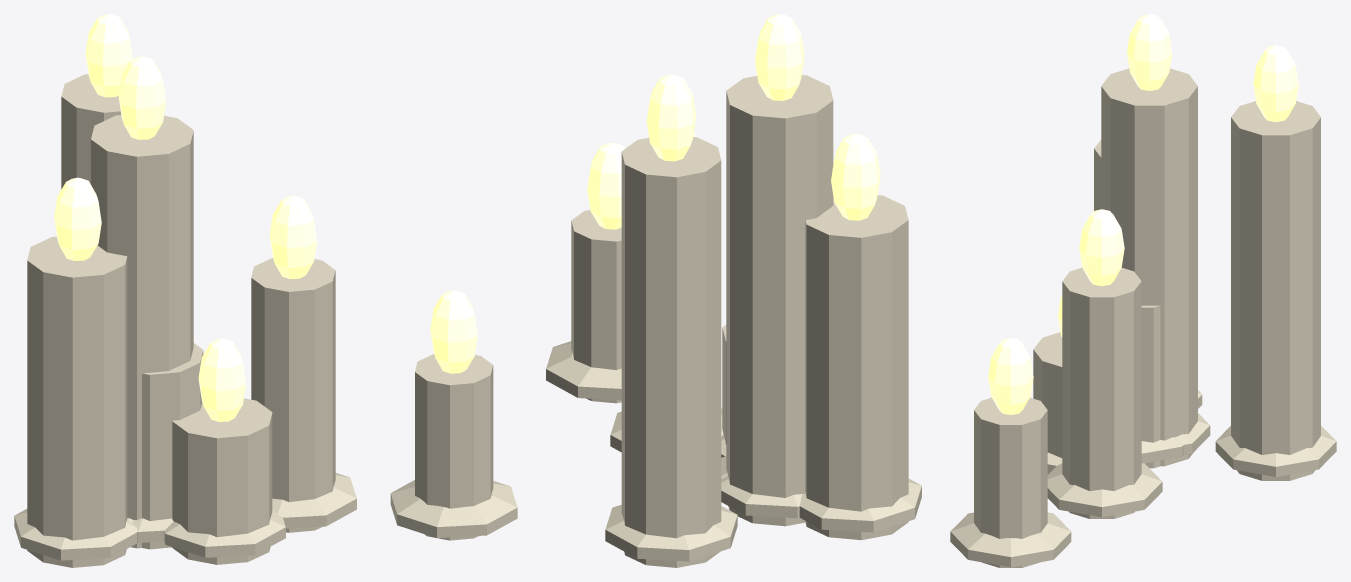
File: candles.glb
The picture shows the model from 3 angles, left to right: view 1: azimuth 30°, elevation 25°; view 2: azimuth 150°, elevation 25°; view 3: azimuth 270°, elevation 25°; orthographic projection. The views are drawn at different scales.
Parts seen in each view (by area): view 1: candles; view 2: candles; view 3: candles.
Boxes of the visible parts, x1,y1,x2,y2 form: candles: (14, 14, 517, 567); candles: (546, 14, 921, 567); candles: (950, 14, 1336, 567).
Size of the model in its own units: 0.49 by 0.5253 by 0.4247.
